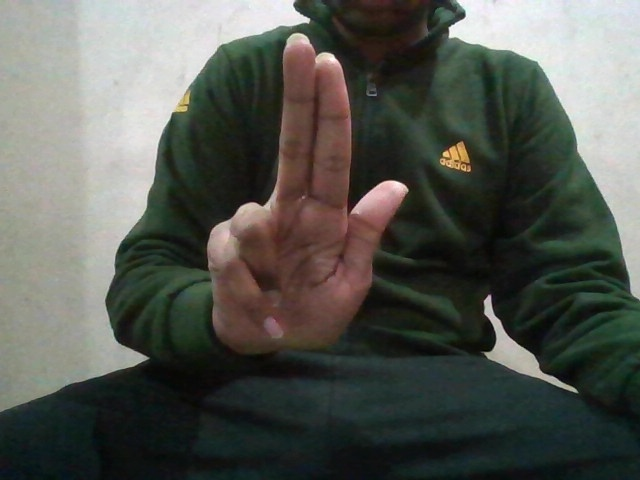K: (208, 26, 411, 361)
